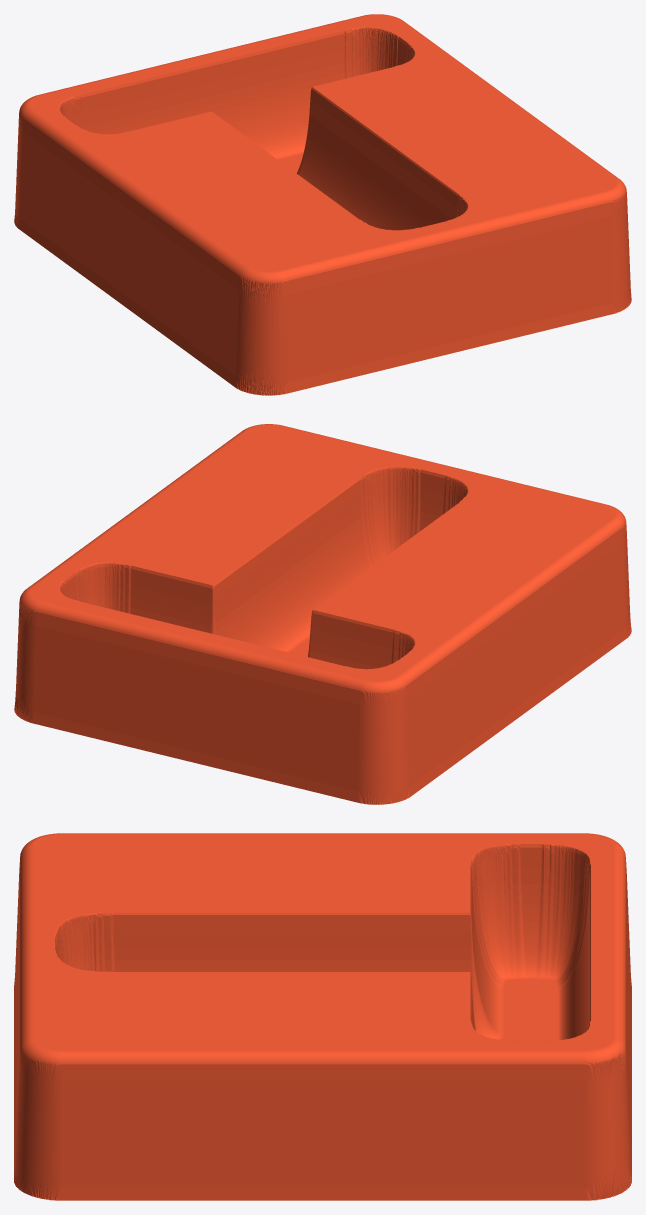
File: mold.glb
3 renders of one model, top to bottom at view 1: azimuth 30°, elevation 25°; view 2: azimuth 150°, elevation 25°; view 3: azimuth 270°, elevation 25°, orthographic. The views are drawn at different scales.
Visible parts, largest first — view 1: geometry_0; view 2: geometry_0; view 3: geometry_0.
Boxes of the visible parts, <box> form: geometry_0: <box>14,14,631,395</box>; geometry_0: <box>14,424,631,804</box>; geometry_0: <box>14,833,631,1200</box>.
Size of the model in its own units: 0.1046 by 0.0299 by 0.1178.
